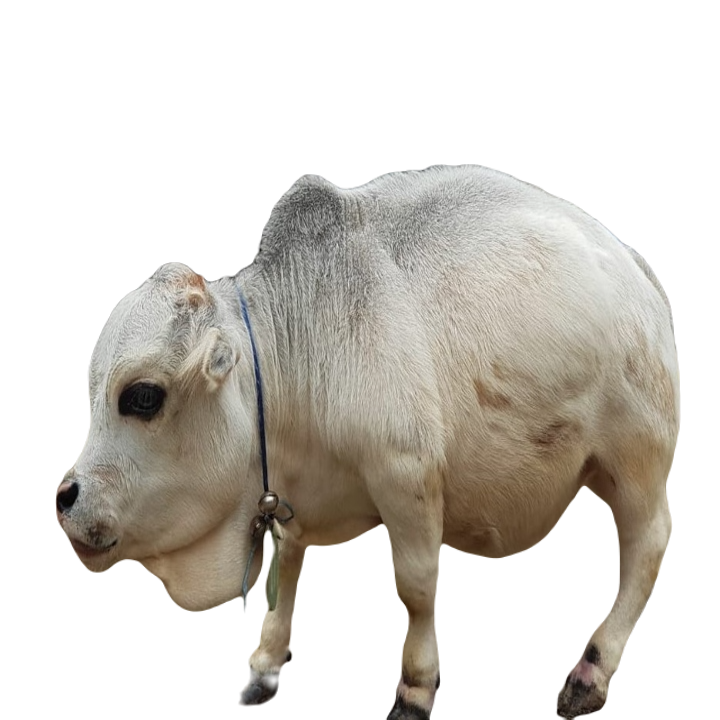Cow: (54, 163, 678, 718)
